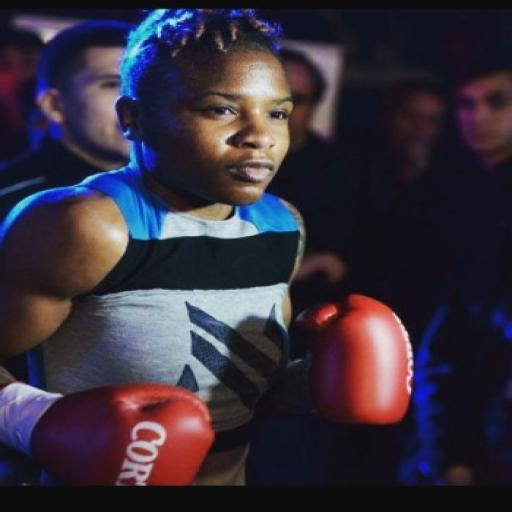boxing: (0, 6, 415, 485)
